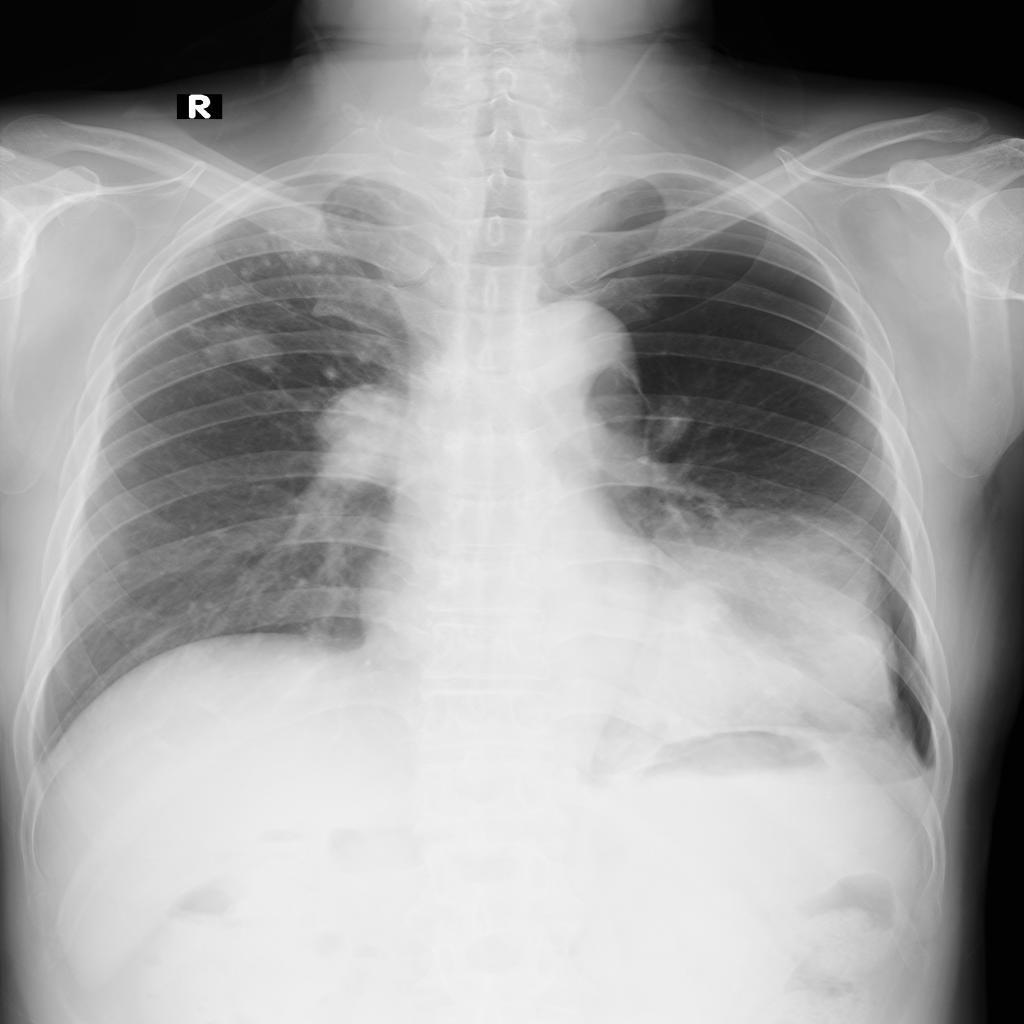Nodule: (642, 503, 887, 719), (317, 386, 435, 480)
